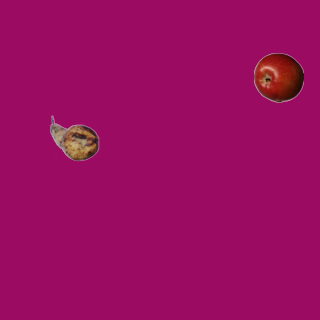Apple Braeburn: (253, 52, 303, 102)
Pear Abate: (49, 113, 99, 163)
